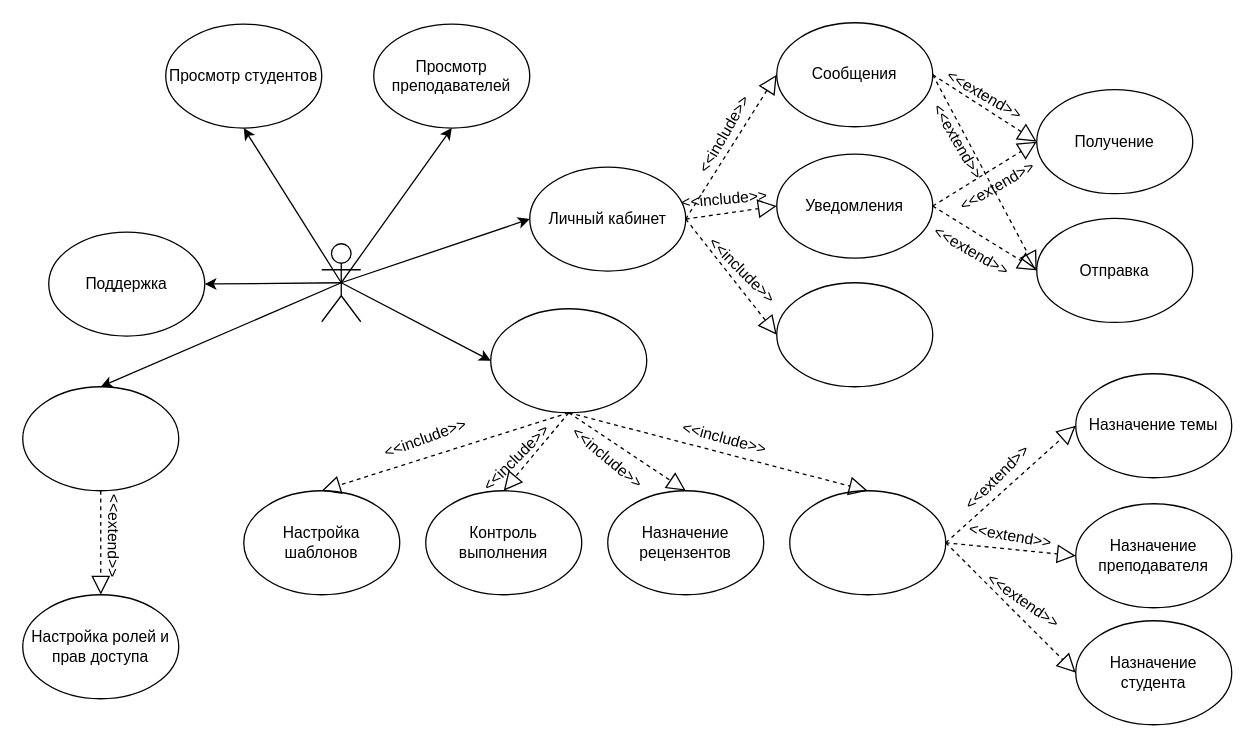
The diagram is 1255 pixels wide and 748 high, and some of its shapes have lost their labels. The shapes that lost their labels are listed below. From the top down, each one's centre as x and y in pixels, then its label:
At [340,282]: "Администратор".
At [854,334]: "Логин / Пароль".
At [568,360]: "Управление проектом".
At [100,438]: "Управление учетными записями".
At [867,542]: "Создание".
